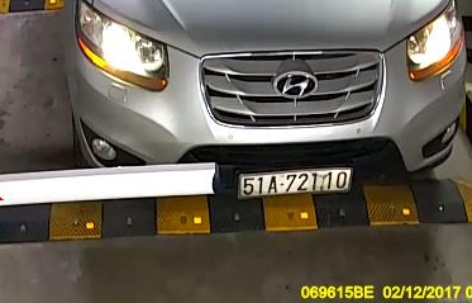plate: (236, 163, 353, 200)
